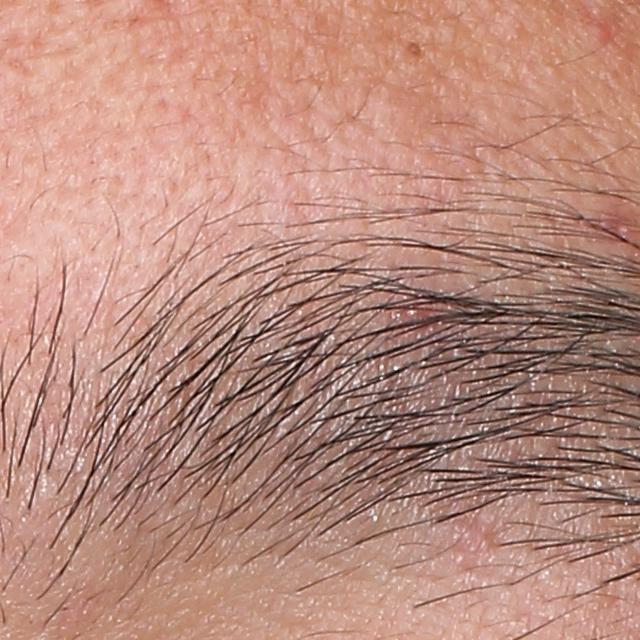nevus: (404, 38, 423, 57)
papule: (588, 24, 616, 47)
